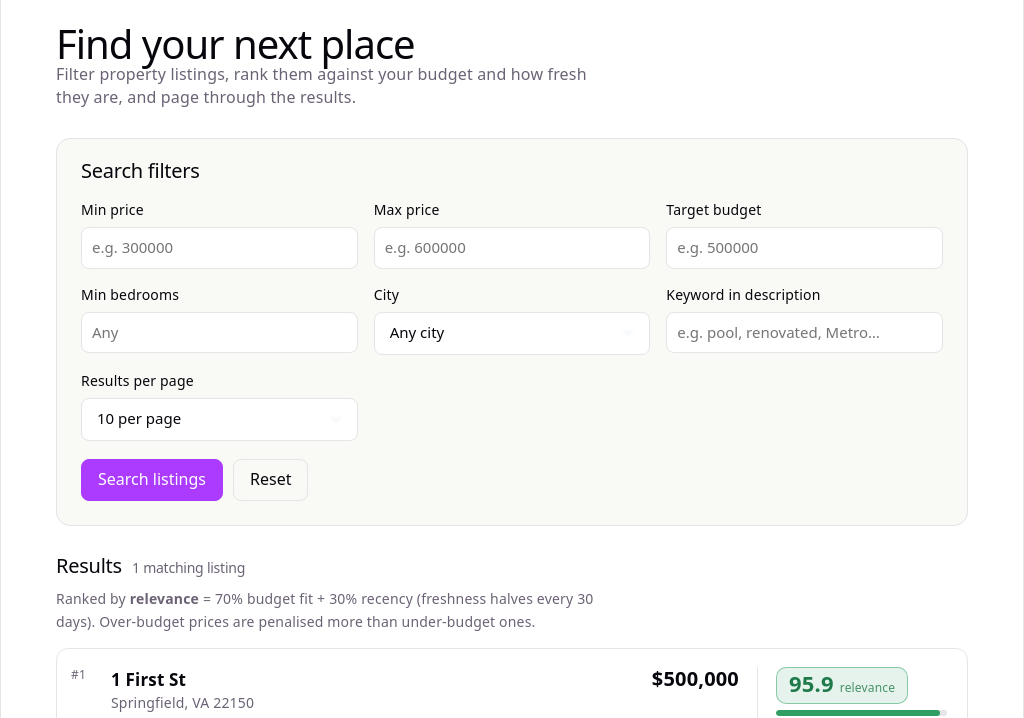
Test: App — form validation › clears a field error as soon as the user edits that field
Expected: the text "1 First St" is shown, [111,668,186,691]
Type "600000" into the field labelled "Min price" at (219, 248), box [81,227,358,269]
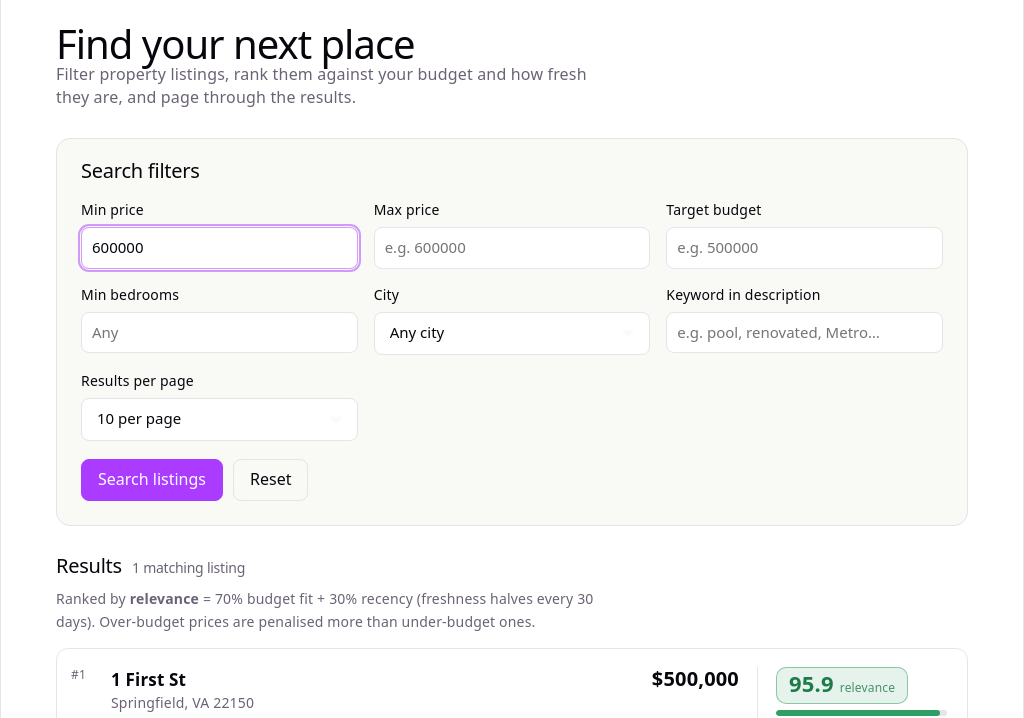
Type "400000" into the field labelled "Max price" at (512, 248), box [374,227,650,269]
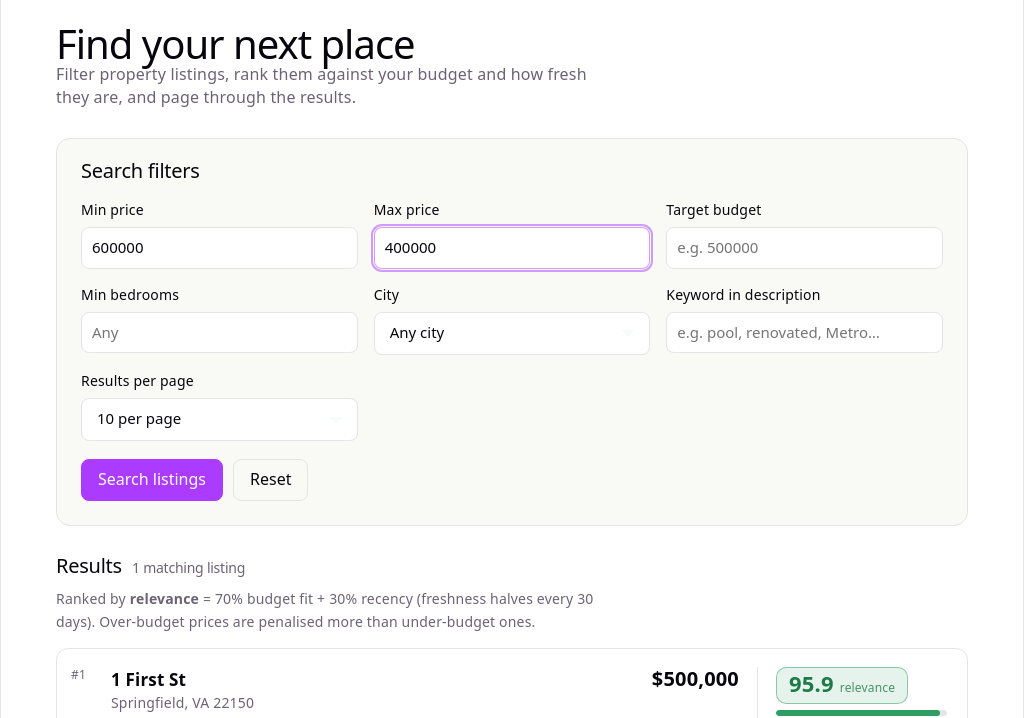
Click the button "Search listings" at (152, 480), box [81,459,223,501]
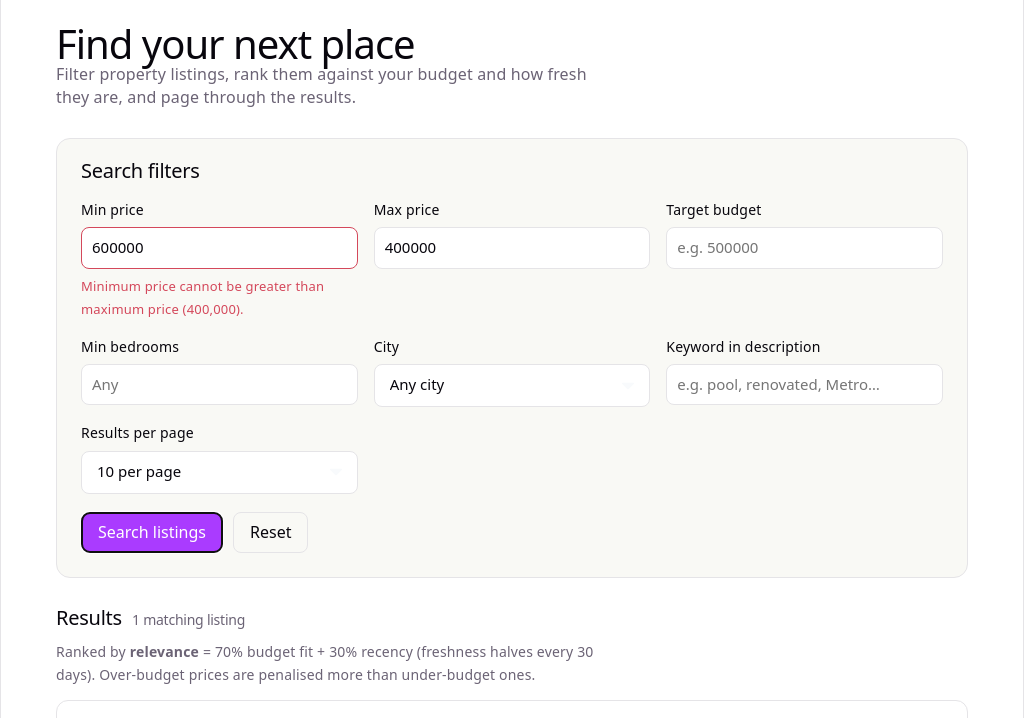
Now the text "Minimum price cannot be greater than maximum price (400,000)." is shown, box [81,275,358,321]
Clear the field labelled "Min price" at (219, 248), box [81,227,358,269]
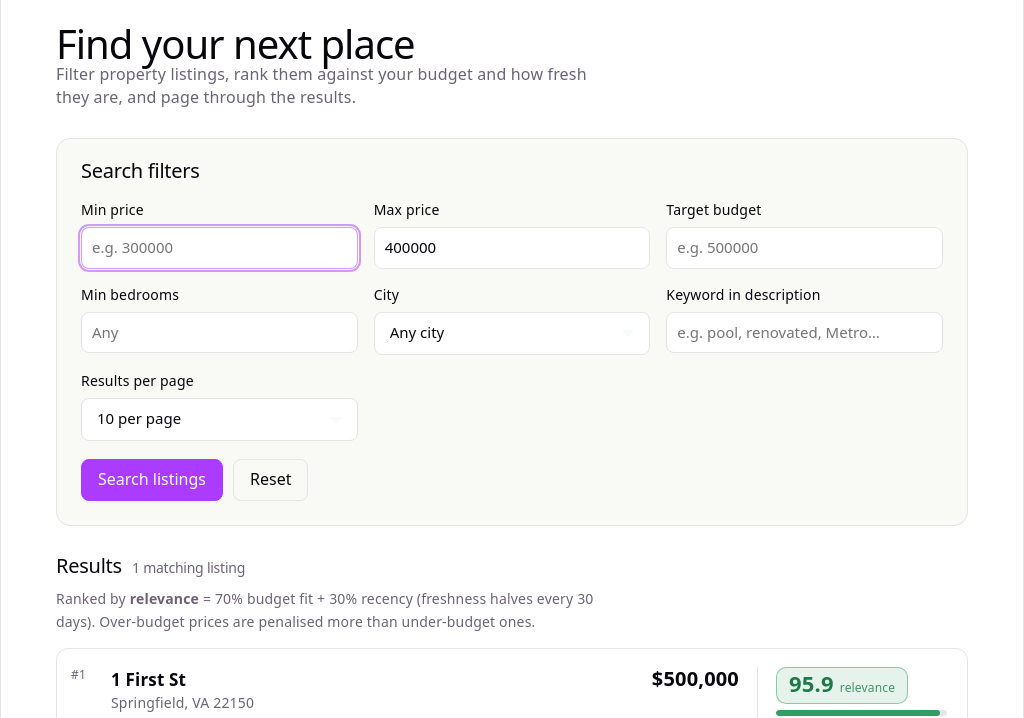
Now the text "cannot be greater than" is gone
